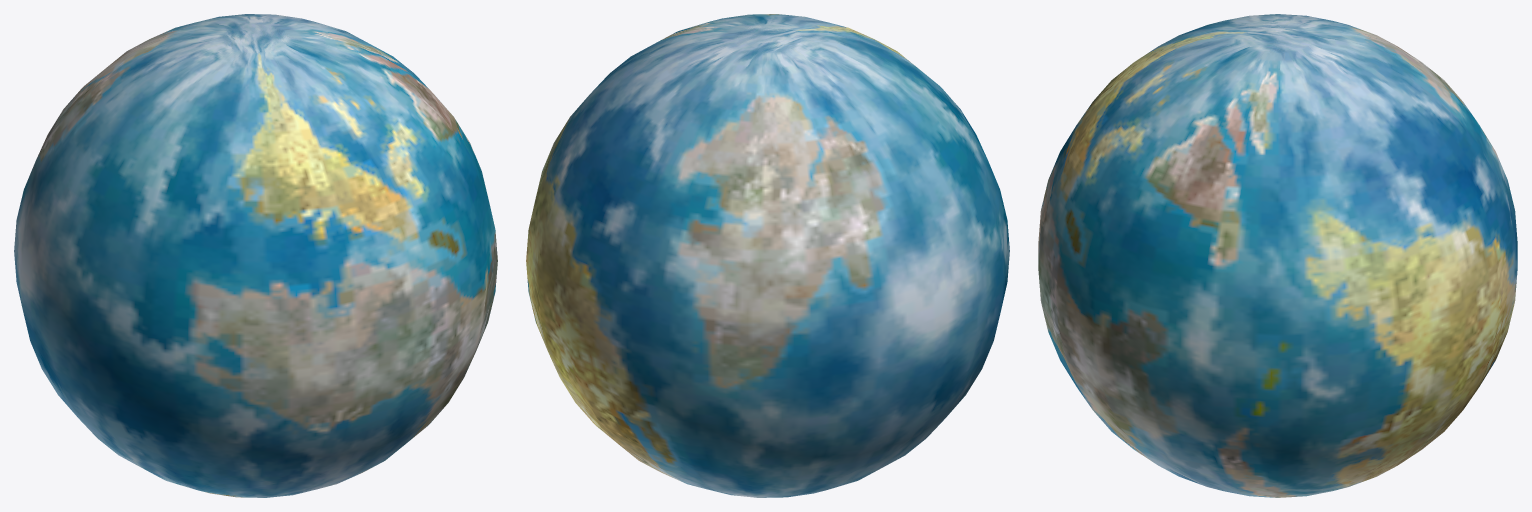
The model's file is ui_planet_sel_corl.fbx.
3 views of the same model, side by side, from view 1: azimuth 30°, elevation 25°; view 2: azimuth 150°, elevation 25°; view 3: azimuth 270°, elevation 25° (orthographic).
Visible parts, largest first — view 1: mesh_node; view 2: mesh_node; view 3: mesh_node.
Boxes of the visible parts, box(x1,y1,x2,y2) form: mesh_node: box(14, 14, 497, 497); mesh_node: box(526, 14, 1009, 497); mesh_node: box(1038, 14, 1517, 497).
Bounding box in the file's own units: 2 × 2 × 1.98.
